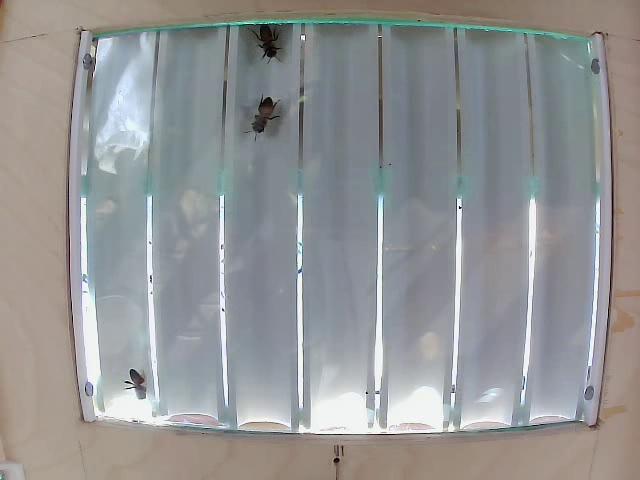bee: (245, 96, 278, 140), (253, 22, 288, 61), (126, 364, 151, 400)
